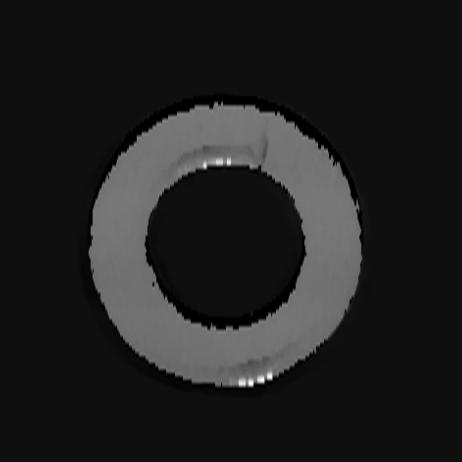defect: (257, 119, 269, 166)
